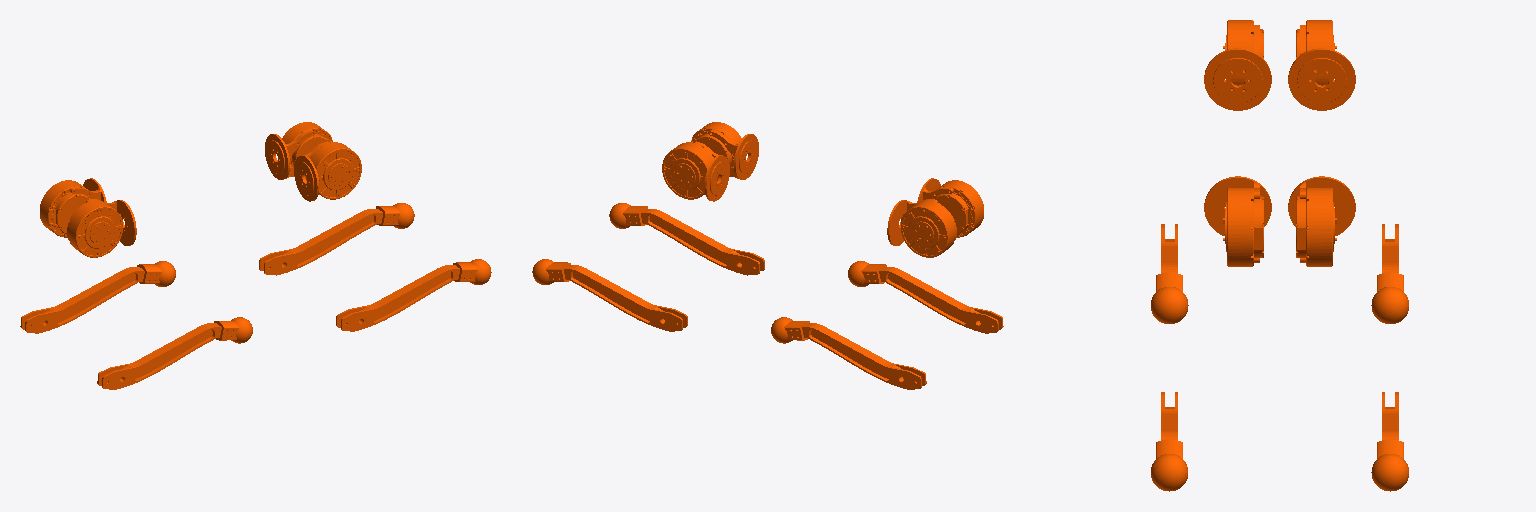
robot.urdf — aliengo_description:
<?xml version="1.0" encoding="utf-8"?>
<!-- =================================================================================== -->
<!-- |    This document was autogenerated by xacro from robot.xacro                    | -->
<!-- |    EDITING THIS FILE BY HAND IS NOT RECOMMENDED                                 | -->
<!-- =================================================================================== -->
<robot name="aliengo_description">
  <material name="black">
    <color rgba="0.0 0.0 0.0 1.0"/>
  </material>
  <material name="blue">
    <color rgba="0.0 0.0 0.8 1.0"/>
  </material>
  <material name="green">
    <color rgba="0.0 0.8 0.0 1.0"/>
  </material>
  <material name="grey">
    <color rgba="0.2 0.2 0.2 1.0"/>
  </material>
  <material name="silver">
    <color rgba="0.913725490196 0.913725490196 0.847058823529 1.0"/>
  </material>
  <material name="orange">
    <color rgba="1.0 0.423529411765 0.0392156862745 1.0"/>
  </material>
  <material name="brown">
    <color rgba="0.870588235294 0.811764705882 0.764705882353 1.0"/>
  </material>
  <material name="red">
    <color rgba="0.8 0.0 0.0 1.0"/>
  </material>
  <material name="white">
    <color rgba="1.0 1.0 1.0 1.0"/>
  </material>

  <link name="base">
    <visual>
      <origin rpy="0 0 0" xyz="0 0 0"/>
      <geometry>
        <box size="0.001 0.001 0.001"/>
      </geometry>
    </visual>
  </link>
  <joint name="floating_base" type="fixed">
    <origin rpy="0 0 0" xyz="0 0 0"/>
    <parent link="base"/>
    <child link="trunk"/>
  </joint>
  <link name="trunk">
    <visual>
      <origin rpy="0 0 0" xyz="0 0 0"/>
      <geometry>
        <mesh filename="../meshes/trunk.dae" scale="1 1 1"/>
      </geometry>
      <material name="orange"/>
    </visual>
    <collision>
      <origin rpy="0 0 0" xyz="0 0 0"/>
      <geometry>
        <box size="0.647 0.15 0.112"/>
      </geometry>
    </collision>
    <inertial>
      <origin rpy="0 0 0" xyz="0.008465 0.004045 -0.000763"/>
      <mass value="9.041"/>
      <inertia ixx="0.033260231" ixy="-0.000451628" ixz="0.000487603" iyy="0.16117211" iyz="4.8356e-05" izz="0.17460442"/>
    </inertial>
  </link>
  <joint name="imu_joint" type="fixed">
    <parent link="trunk"/>
    <child link="imu_link"/>
    <origin rpy="0 0 0" xyz="0 0 0"/>
  </joint>
  <link name="imu_link">
    <inertial>
      <mass value="0.001"/>
      <origin rpy="0 0 0" xyz="0 0 0"/>
      <inertia ixx="0.0001" ixy="0" ixz="0" iyy="0.000001" iyz="0" izz="0.0001"/>
    </inertial>
    <visual>
      <origin rpy="0 0 0" xyz="0 0 0"/>
      <geometry>
        <box size="0.001 0.001 0.001"/>
      </geometry>
      <material name="red"/>
    </visual>
    <collision>
      <origin rpy="0 0 0" xyz="0 0 0"/>
      <geometry>
        <box size=".001 .001 .001"/>
      </geometry>
    </collision>
  </link>
  <joint name="FR_hip_joint" type="revolute">
    <origin rpy="0 0 0" xyz="0.2399 -0.051 0"/>
    <parent link="trunk"/>
    <child link="FR_hip"/>
    <axis xyz="1 0 0"/>
    <dynamics damping="0" friction="0"/>
    <limit effort="44" lower="-1.2217304764" upper="1.2217304764" velocity="20"/>
  </joint>
  <link name="FR_hip">
    <visual>
      <origin rpy="3.14159265359 0 0" xyz="0 0 0"/>
      <geometry>
        <mesh filename="../meshes/hip.dae" scale="1 1 1"/>
      </geometry>
      <material name="orange"/>
    </visual>
    <collision>
      <origin rpy="1.57079632679 0 0" xyz="0 -0.083 0"/>
      <geometry>
        <cylinder length="0.0418" radius="0.046"/>
      </geometry>
    </collision>
    <inertial>
      <origin rpy="0 0 0" xyz="-0.022191 -0.015144 -1.5e-05"/>
      <mass value="1.993"/>
      <inertia ixx="0.002903894" ixy="7.185e-05" ixz="-1.262e-06" iyy="0.004907517" iyz="1.75e-06" izz="0.005586944"/>
    </inertial>
  </link>
  <joint name="FR_thigh_joint" type="revolute">
    <origin rpy="0 0 0" xyz="0 -0.083 0"/>
    <parent link="FR_hip"/>
    <child link="FR_thigh"/>
    <axis xyz="0 1 0"/>
    <dynamics damping="0" friction="0"/>
    <limit effort="44" lower="-1.0471975512" upper="4.18879020479" velocity="20"/>
  </joint>
  <link name="FR_thigh">
    <visual>
      <origin rpy="0 0 0" xyz="0 0 0"/>
      <geometry>
        <mesh filename="../meshes/thigh_mirror.dae" scale="1 1 1"/>
      </geometry>
      <material name="orange"/>
    </visual>
    <collision>
      <origin rpy="0 1.57079632679 0" xyz="0 0 -0.125"/>
      <geometry>
        <box size="0.25 0.0374 0.043"/>
      </geometry>
    </collision>
    <inertial>
      <origin rpy="0 0 0" xyz="-0.005607 0.003877 -0.048199"/>
      <mass value="0.639"/>
      <inertia ixx="0.005666803" ixy="-3.597e-06" ixz="0.000491446" iyy="0.005847229" iyz="-1.0086e-05" izz="0.000369811"/>
    </inertial>
  </link>
  <joint name="FR_calf_joint" type="revolute">
    <origin rpy="0 0 0" xyz="0 0 -0.25"/>
    <parent link="FR_thigh"/>
    <child link="FR_calf"/>
    <axis xyz="0 1 0"/>
    <dynamics damping="0" friction="0"/>
    <limit effort="55" lower="-2.77507351067" upper="-0.645771823238" velocity="16"/>
  </joint>
  <link name="FR_calf">
    <visual>
      <origin rpy="0 0 0" xyz="0 0 0"/>
      <geometry>
        <mesh filename="../meshes/calf.dae" scale="1 1 1"/>
      </geometry>
      <material name="orange"/>
    </visual>
    <collision>
      <origin rpy="0 1.57079632679 0" xyz="0 0 -0.125"/>
      <geometry>
        <box size="0.25 0.0208 0.016"/>
      </geometry>
    </collision>
    <inertial>
      <origin rpy="0 0 0" xyz="0.002781 6.3e-05 -0.142518"/>
      <mass value="0.207"/>
      <inertia ixx="0.006341369" ixy="-3e-09" ixz="-8.7951e-05" iyy="0.006355157" iyz="-1.336e-06" izz="3.9188e-05"/>
    </inertial>
  </link>
  <joint name="FR_foot_fixed" type="fixed" dont_collapse="true">
    <origin rpy="0 0 0" xyz="0 0 -0.25"/>
    <parent link="FR_calf"/>
    <child link="FR_foot"/>
  </joint>
  <link name="FR_foot">
    <visual>
      <origin rpy="0 0 0" xyz="0 0 0"/>
      <geometry>
        <sphere radius="0.0165"/>
      </geometry>
      <material name="green"/>
    </visual>
    <collision>
      <origin rpy="0 0 0" xyz="0 0 0"/>
      <geometry>
        <sphere radius="0.0265"/>
      </geometry>
    </collision>
    <inertial>
      <mass value="0.06"/>
      <inertia ixx="1.6854e-05" ixy="0.0" ixz="0.0" iyy="1.6854e-05" iyz="0.0" izz="1.6854e-05"/>
    </inertial>
  </link>

  <joint name="FL_hip_joint" type="revolute">
    <origin rpy="0 0 0" xyz="0.2399 0.051 0"/>
    <parent link="trunk"/>
    <child link="FL_hip"/>
    <axis xyz="1 0 0"/>
    <dynamics damping="0" friction="0"/>
    <limit effort="44" lower="-1.2217304764" upper="1.2217304764" velocity="20"/>
  </joint>
  <link name="FL_hip">
    <visual>
      <origin rpy="0 0 0" xyz="0 0 0"/>
      <geometry>
        <mesh filename="../meshes/hip.dae" scale="1 1 1"/>
      </geometry>
      <material name="orange"/>
    </visual>
    <collision>
      <origin rpy="1.57079632679 0 0" xyz="0 0.083 0"/>
      <geometry>
        <cylinder length="0.0418" radius="0.046"/>
      </geometry>
    </collision>
    <inertial>
      <origin rpy="0 0 0" xyz="-0.022191 0.015144 -1.5e-05"/>
      <mass value="1.993"/>
      <inertia ixx="0.002903894" ixy="-7.185e-05" ixz="-1.262e-06" iyy="0.004907517" iyz="-1.75e-06" izz="0.005586944"/>
    </inertial>
  </link>

  <joint name="FL_thigh_joint" type="revolute">
    <origin rpy="0 0 0" xyz="0 0.083 0"/>
    <parent link="FL_hip"/>
    <child link="FL_thigh"/>
    <axis xyz="0 1 0"/>
    <dynamics damping="0" friction="0"/>
    <limit effort="44" lower="-1.0471975512" upper="4.18879020479" velocity="20"/>
  </joint>
  <link name="FL_thigh">
    <visual>
      <origin rpy="0 0 0" xyz="0 0 0"/>
      <geometry>
        <mesh filename="../meshes/thigh.dae" scale="1 1 1"/>
      </geometry>
      <material name="orange"/>
    </visual>
    <collision>
      <origin rpy="0 1.57079632679 0" xyz="0 0 -0.125"/>
      <geometry>
        <box size="0.25 0.0374 0.043"/>
      </geometry>
    </collision>
    <inertial>
      <origin rpy="0 0 0" xyz="-0.005607 -0.003877 -0.048199"/>
      <mass value="0.639"/>
      <inertia ixx="0.005666803" ixy="3.597e-06" ixz="0.000491446" iyy="0.005847229" iyz="1.0086e-05" izz="0.000369811"/>
    </inertial>
  </link>
  <joint name="FL_calf_joint" type="revolute">
    <origin rpy="0 0 0" xyz="0 0 -0.25"/>
    <parent link="FL_thigh"/>
    <child link="FL_calf"/>
    <axis xyz="0 1 0"/>
    <dynamics damping="0" friction="0"/>
    <limit effort="55" lower="-2.77507351067" upper="-0.645771823238" velocity="16"/>
  </joint>
  <link name="FL_calf">
    <visual>
      <origin rpy="0 0 0" xyz="0 0 0"/>
      <geometry>
        <mesh filename="../meshes/calf.dae" scale="1 1 1"/>
      </geometry>
      <material name="orange"/>
    </visual>
    <collision>
      <origin rpy="0 1.57079632679 0" xyz="0 0 -0.125"/>
      <geometry>
        <box size="0.25 0.0208 0.016"/>
      </geometry>
    </collision>
    <inertial>
      <origin rpy="0 0 0" xyz="0.002781 6.3e-05 -0.142518"/>
      <mass value="0.207"/>
      <inertia ixx="0.006341369" ixy="-3e-09" ixz="-8.7951e-05" iyy="0.006355157" iyz="-1.336e-06" izz="3.9188e-05"/>
    </inertial>
  </link>
  <joint name="FL_foot_fixed" type="fixed" dont_collapse="true">
    <origin rpy="0 0 0" xyz="0 0 -0.25"/>
    <parent link="FL_calf"/>
    <child link="FL_foot"/>
  </joint>
  <link name="FL_foot">
    <visual>
      <origin rpy="0 0 0" xyz="0 0 0"/>
      <geometry>
        <sphere radius="0.0165"/>
      </geometry>
      <material name="green"/>
    </visual>
    <collision>
      <origin rpy="0 0 0" xyz="0 0 0"/>
      <geometry>
        <sphere radius="0.0265"/>
      </geometry>
    </collision>
    <inertial>
      <mass value="0.06"/>
      <inertia ixx="1.6854e-05" ixy="0.0" ixz="0.0" iyy="1.6854e-05" iyz="0.0" izz="1.6854e-05"/>
    </inertial>
  </link>

  <joint name="RR_hip_joint" type="revolute">
    <origin rpy="0 0 0" xyz="-0.2399 -0.051 0"/>
    <parent link="trunk"/>
    <child link="RR_hip"/>
    <axis xyz="1 0 0"/>
    <dynamics damping="0" friction="0"/>
    <limit effort="44" lower="-1.2217304764" upper="1.2217304764" velocity="20"/>
  </joint>
  <link name="RR_hip">
    <visual>
      <origin rpy="3.14159265359 3.14159265359 0" xyz="0 0 0"/>
      <geometry>
        <mesh filename="../meshes/hip.dae" scale="1 1 1"/>
      </geometry>
      <material name="orange"/>
    </visual>
    <collision>
      <origin rpy="1.57079632679 0 0" xyz="0 -0.083 0"/>
      <geometry>
        <cylinder length="0.0418" radius="0.046"/>
      </geometry>
    </collision>
    <inertial>
      <origin rpy="0 0 0" xyz="0.022191 -0.015144 -1.5e-05"/>
      <mass value="1.993"/>
      <inertia ixx="0.002903894" ixy="-7.185e-05" ixz="1.262e-06" iyy="0.004907517" iyz="1.75e-06" izz="0.005586944"/>
    </inertial>
  </link>

  <joint name="RR_thigh_joint" type="revolute">
    <origin rpy="0 0 0" xyz="0 -0.083 0"/>
    <parent link="RR_hip"/>
    <child link="RR_thigh"/>
    <axis xyz="0 1 0"/>
    <dynamics damping="0" friction="0"/>
    <limit effort="44" lower="-1.0471975512" upper="4.18879020479" velocity="20"/>
  </joint>
  <link name="RR_thigh">
    <visual>
      <origin rpy="0 0 0" xyz="0 0 0"/>
      <geometry>
        <mesh filename="../meshes/thigh_mirror.dae" scale="1 1 1"/>
      </geometry>
      <material name="orange"/>
    </visual>
    <collision>
      <origin rpy="0 1.57079632679 0" xyz="0 0 -0.125"/>
      <geometry>
        <box size="0.25 0.0374 0.043"/>
      </geometry>
    </collision>
    <inertial>
      <origin rpy="0 0 0" xyz="-0.005607 0.003877 -0.048199"/>
      <mass value="0.639"/>
      <inertia ixx="0.005666803" ixy="-3.597e-06" ixz="0.000491446" iyy="0.005847229" iyz="-1.0086e-05" izz="0.000369811"/>
    </inertial>
  </link>
  <joint name="RR_calf_joint" type="revolute">
    <origin rpy="0 0 0" xyz="0 0 -0.25"/>
    <parent link="RR_thigh"/>
    <child link="RR_calf"/>
    <axis xyz="0 1 0"/>
    <dynamics damping="0" friction="0"/>
    <limit effort="55" lower="-2.77507351067" upper="-0.645771823238" velocity="16"/>
  </joint>
  <link name="RR_calf">
    <visual>
      <origin rpy="0 0 0" xyz="0 0 0"/>
      <geometry>
        <mesh filename="../meshes/calf.dae" scale="1 1 1"/>
      </geometry>
      <material name="orange"/>
    </visual>
    <collision>
      <origin rpy="0 1.57079632679 0" xyz="0 0 -0.125"/>
      <geometry>
        <box size="0.25 0.0208 0.016"/>
      </geometry>
    </collision>
    <inertial>
      <origin rpy="0 0 0" xyz="0.002781 6.3e-05 -0.142518"/>
      <mass value="0.207"/>
      <inertia ixx="0.006341369" ixy="-3e-09" ixz="-8.7951e-05" iyy="0.006355157" iyz="-1.336e-06" izz="3.9188e-05"/>
    </inertial>
  </link>
  <joint name="RR_foot_fixed" type="fixed" dont_collapse="true">
    <origin rpy="0 0 0" xyz="0 0 -0.25"/>
    <parent link="RR_calf"/>
    <child link="RR_foot"/>
  </joint>
  <link name="RR_foot">
    <visual>
      <origin rpy="0 0 0" xyz="0 0 0"/>
      <geometry>
        <sphere radius="0.0165"/>
      </geometry>
      <material name="green"/>
    </visual>
    <collision>
      <origin rpy="0 0 0" xyz="0 0 0"/>
      <geometry>
        <sphere radius="0.0265"/>
      </geometry>
    </collision>
    <inertial>
      <mass value="0.06"/>
      <inertia ixx="1.6854e-05" ixy="0.0" ixz="0.0" iyy="1.6854e-05" iyz="0.0" izz="1.6854e-05"/>
    </inertial>
  </link>

  <joint name="RL_hip_joint" type="revolute">
    <origin rpy="0 0 0" xyz="-0.2399 0.051 0"/>
    <parent link="trunk"/>
    <child link="RL_hip"/>
    <axis xyz="1 0 0"/>
    <dynamics damping="0" friction="0"/>
    <limit effort="44" lower="-1.2217304764" upper="1.2217304764" velocity="20"/>
  </joint>
  <link name="RL_hip">
    <visual>
      <origin rpy="0 3.14159265359 0" xyz="0 0 0"/>
      <geometry>
        <mesh filename="../meshes/hip.dae" scale="1 1 1"/>
      </geometry>
      <material name="orange"/>
    </visual>
    <collision>
      <origin rpy="1.57079632679 0 0" xyz="0 0.083 0"/>
      <geometry>
        <cylinder length="0.0418" radius="0.046"/>
      </geometry>
    </collision>
    <inertial>
      <origin rpy="0 0 0" xyz="0.022191 0.015144 -1.5e-05"/>
      <mass value="1.993"/>
      <inertia ixx="0.002903894" ixy="7.185e-05" ixz="1.262e-06" iyy="0.004907517" iyz="-1.75e-06" izz="0.005586944"/>
    </inertial>
  </link>

  <joint name="RL_thigh_joint" type="revolute">
    <origin rpy="0 0 0" xyz="0 0.083 0"/>
    <parent link="RL_hip"/>
    <child link="RL_thigh"/>
    <axis xyz="0 1 0"/>
    <dynamics damping="0" friction="0"/>
    <limit effort="44" lower="-1.0471975512" upper="4.18879020479" velocity="20"/>
  </joint>
  <link name="RL_thigh">
    <visual>
      <origin rpy="0 0 0" xyz="0 0 0"/>
      <geometry>
        <mesh filename="../meshes/thigh.dae" scale="1 1 1"/>
      </geometry>
      <material name="orange"/>
    </visual>
    <collision>
      <origin rpy="0 1.57079632679 0" xyz="0 0 -0.125"/>
      <geometry>
        <box size="0.25 0.0374 0.043"/>
      </geometry>
    </collision>
    <inertial>
      <origin rpy="0 0 0" xyz="-0.005607 -0.003877 -0.048199"/>
      <mass value="0.639"/>
      <inertia ixx="0.005666803" ixy="3.597e-06" ixz="0.000491446" iyy="0.005847229" iyz="1.0086e-05" izz="0.000369811"/>
    </inertial>
  </link>
  <joint name="RL_calf_joint" type="revolute">
    <origin rpy="0 0 0" xyz="0 0 -0.25"/>
    <parent link="RL_thigh"/>
    <child link="RL_calf"/>
    <axis xyz="0 1 0"/>
    <dynamics damping="0" friction="0"/>
    <limit effort="55" lower="-2.77507351067" upper="-0.645771823238" velocity="16"/>
  </joint>
  <link name="RL_calf">
    <visual>
      <origin rpy="0 0 0" xyz="0 0 0"/>
      <geometry>
        <mesh filename="../meshes/calf.dae" scale="1 1 1"/>
      </geometry>
      <material name="orange"/>
    </visual>
    <collision>
      <origin rpy="0 1.57079632679 0" xyz="0 0 -0.125"/>
      <geometry>
        <box size="0.25 0.0208 0.016"/>
      </geometry>
    </collision>
    <inertial>
      <origin rpy="0 0 0" xyz="0.002781 6.3e-05 -0.142518"/>
      <mass value="0.207"/>
      <inertia ixx="0.006341369" ixy="-3e-09" ixz="-8.7951e-05" iyy="0.006355157" iyz="-1.336e-06" izz="3.9188e-05"/>
    </inertial>
  </link>
  <joint name="RL_foot_fixed" type="fixed" dont_collapse="true">
    <origin rpy="0 0 0" xyz="0 0 -0.25"/>
    <parent link="RL_calf"/>
    <child link="RL_foot"/>
  </joint>
  <link name="RL_foot">
    <visual>
      <origin rpy="0 0 0" xyz="0 0 0"/>
      <geometry>
        <sphere radius="0.0165"/>
      </geometry>
      <material name="green"/>
    </visual>
    <collision>
      <origin rpy="0 0 0" xyz="0 0 0"/>
      <geometry>
        <sphere radius="0.0265"/>
      </geometry>
    </collision>
    <inertial>
      <mass value="0.06"/>
      <inertia ixx="1.6854e-05" ixy="0.0" ixz="0.0" iyy="1.6854e-05" iyz="0.0" izz="1.6854e-05"/>
    </inertial>
  </link>
</robot>

--- What the picture shows (computed from the rendered views, not written in the file) ---
3 views of the same robot in one strip: view 1: azimuth 30°, elevation 25°; view 2: azimuth 150°, elevation 25°; view 3: azimuth 270°, elevation 25° (orthographic).
Model aliengo_description with 19 links and 18 joints (12 revolute, 6 fixed), rooted at base, posed all joints at 0 but 4 set to mid-range because 0 is outside their limits (FR_calf_joint = -1.71, FL_calf_joint = -1.71, RR_calf_joint = -1.71, RL_calf_joint = -1.71).
Visible links, largest first — view 1: FL_calf, RL_calf, FR_calf, RR_calf, RR_hip, FR_hip, FL_hip, RL_hip; view 2: FR_calf, RR_calf, FL_calf, RL_calf, RL_hip, FL_hip, FR_hip, RR_hip; view 3: RR_hip, RL_hip, FR_hip, FL_hip, RR_calf, RL_calf, FL_calf, FR_calf.
Boxes of the visible links, x1,y1,x2,y2 form: FL_calf: (259, 203, 414, 275); RL_calf: (20, 261, 175, 333); FR_calf: (336, 259, 491, 331); RR_calf: (97, 317, 252, 389); RR_hip: (67, 199, 136, 257); FR_hip: (294, 141, 361, 201); FL_hip: (265, 122, 332, 179); RL_hip: (40, 178, 106, 237); FR_calf: (609, 203, 764, 275); RR_calf: (848, 261, 1003, 333); FL_calf: (532, 259, 687, 331); RL_calf: (771, 317, 926, 389); RL_hip: (887, 199, 956, 257); FL_hip: (662, 141, 729, 201); FR_hip: (691, 122, 758, 179); RR_hip: (917, 178, 983, 237); RR_hip: (1204, 20, 1271, 110); RL_hip: (1288, 20, 1355, 110); FR_hip: (1204, 176, 1271, 266); FL_hip: (1288, 176, 1355, 266); RR_calf: (1151, 224, 1188, 323); RL_calf: (1371, 224, 1408, 323); FL_calf: (1371, 392, 1408, 491); FR_calf: (1151, 392, 1187, 491).
Bounding box of the posed robot: 0.7919 × 0.314 × 0.3148 m (x, y, z).
8 mesh visuals loaded from 5 distinct referenced files (2 Collada DAE); not drawn: 5 (reference not matched to a file when rendering).
